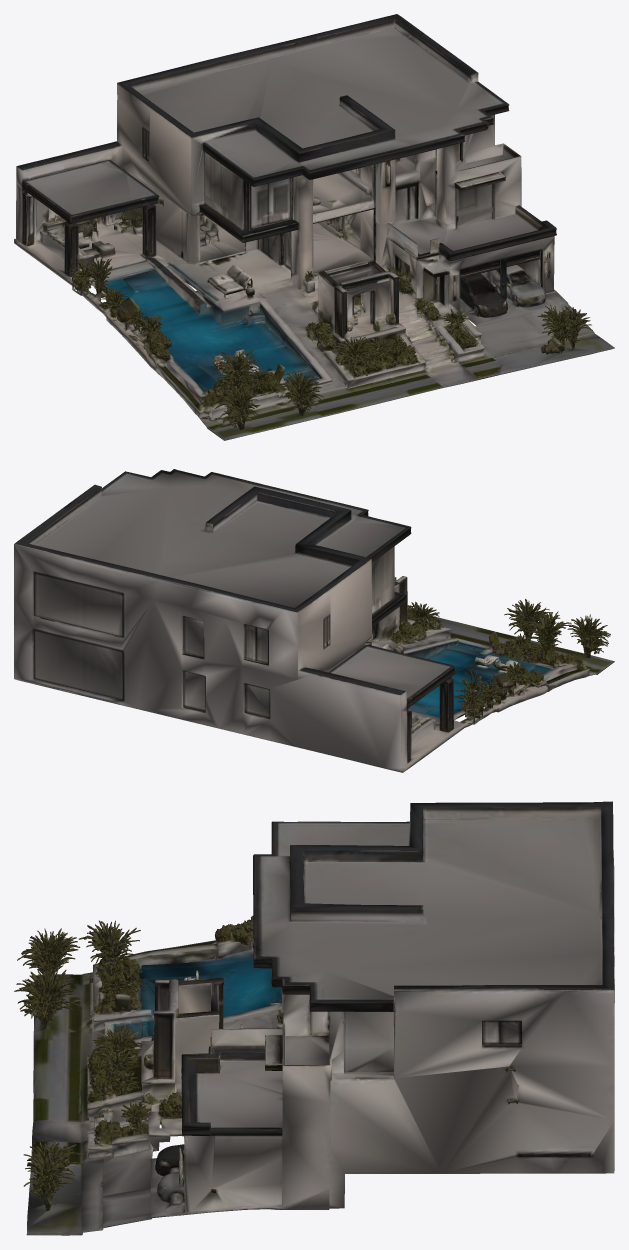
Rendered from villa-house.glb.
3 renders of one model, top to bottom at view 1: azimuth 30°, elevation 25°; view 2: azimuth 150°, elevation 25°; view 3: azimuth 270°, elevation 25°, orthographic. The views are drawn at different scales.
Parts seen in each view (by area): view 1: mesh_node; view 2: mesh_node; view 3: mesh_node.
Boxes of the visible parts, x1,y1,x2,y2 form: mesh_node: [14, 14, 614, 440]; mesh_node: [14, 469, 614, 772]; mesh_node: [14, 801, 614, 1235].
Size of the model in its own units: 1.92 by 0.8228 by 1.83.
Materials: 1 (1 with a texture image).
